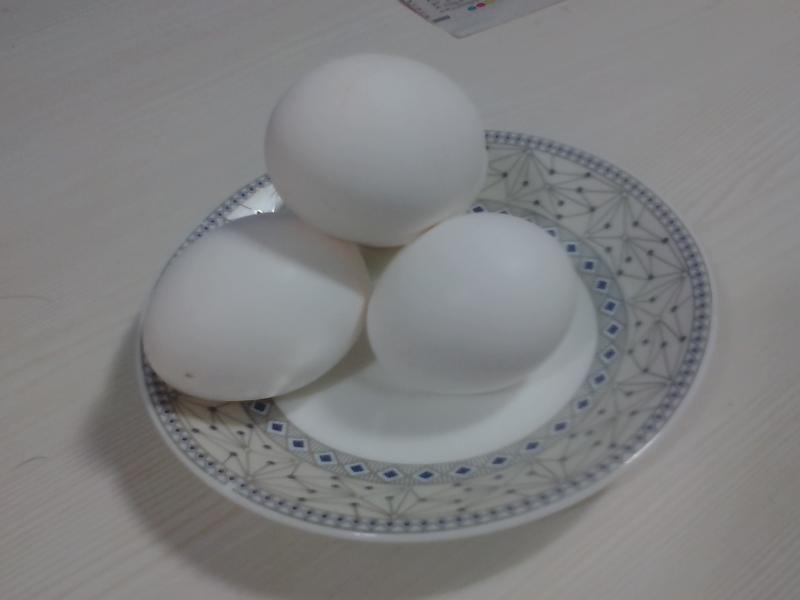egg: (268, 57, 485, 245)
